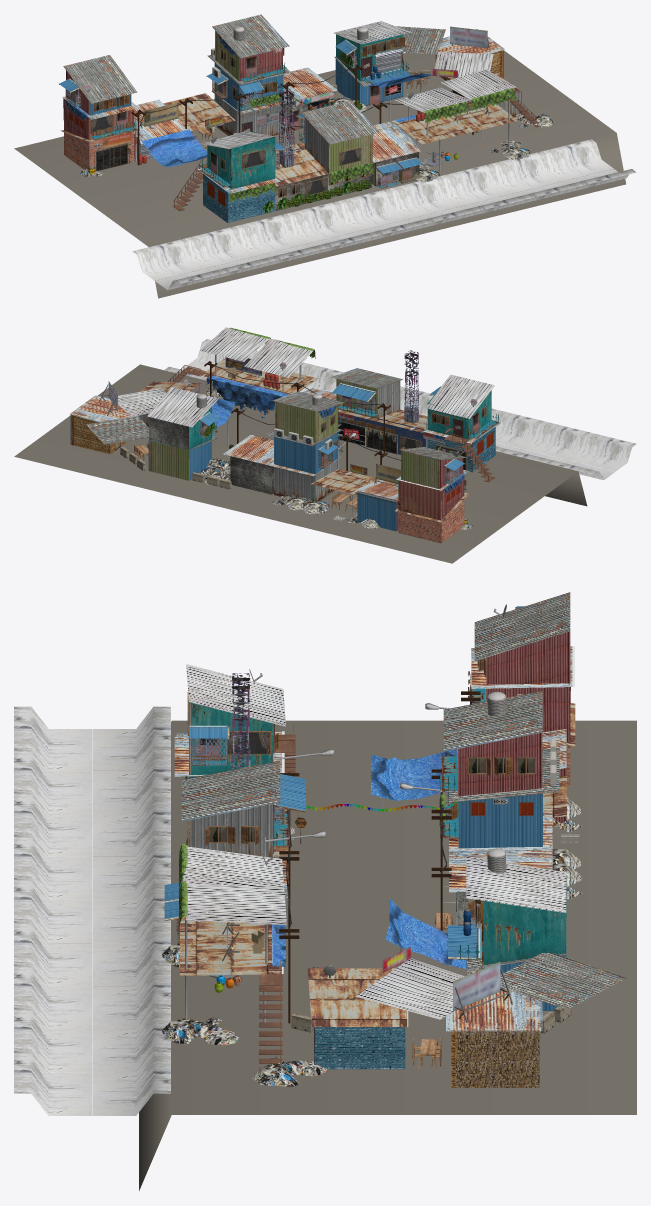
The model's file is slum_cluster.glb.
The picture shows the model from 3 angles, top to bottom: view 1: azimuth 30°, elevation 25°; view 2: azimuth 150°, elevation 25°; view 3: azimuth 270°, elevation 25°; orthographic projection. The views are drawn at different scales.
Visible parts, largest first — view 1: slum_cluster; view 2: slum_cluster; view 3: slum_cluster.
Boxes of the visible parts, <box> form: slum_cluster: <box>14,14,636,298</box>; slum_cluster: <box>14,327,636,563</box>; slum_cluster: <box>14,592,636,1190</box>.
Size of the model in its own units: 34 by 10.06 by 21.91.
Materials: 1 (1 with a texture image).
